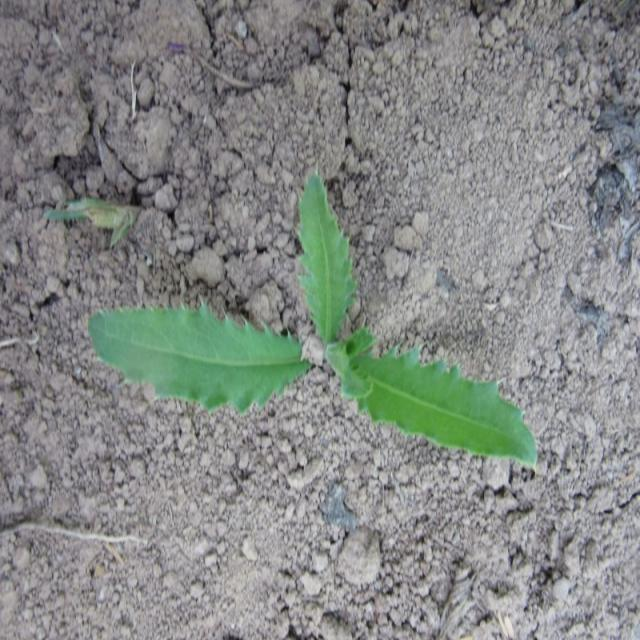field_thistle: (56, 158, 555, 477)
